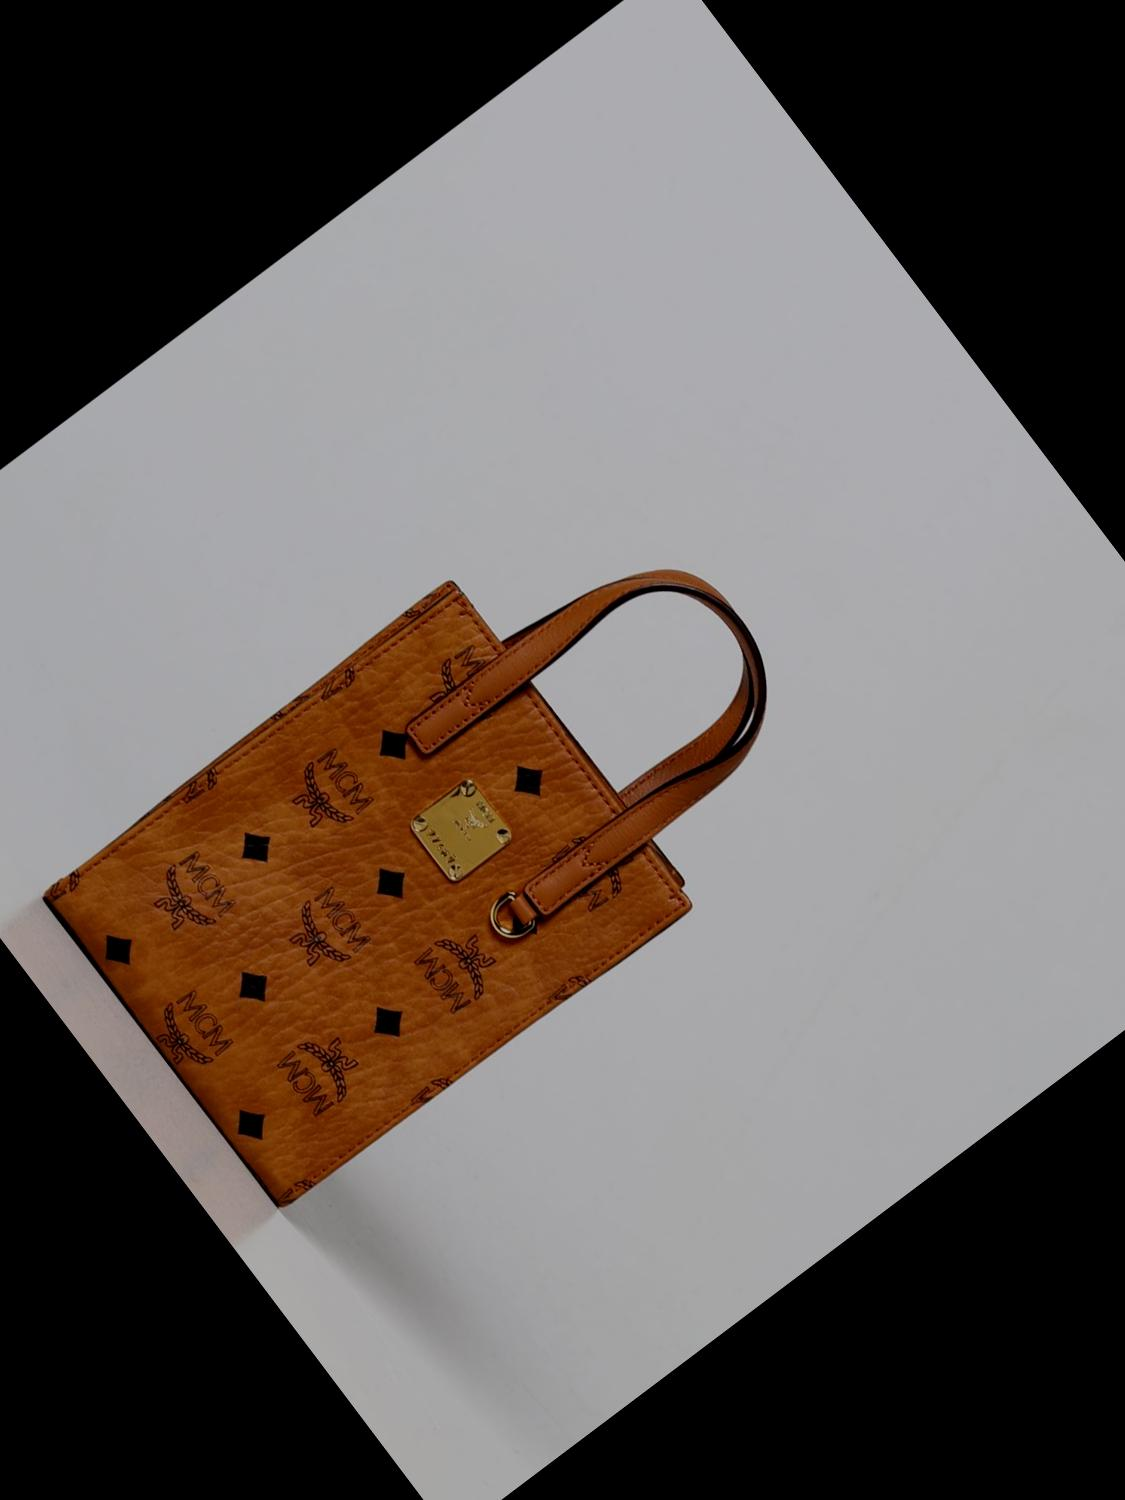MCM: (26, 570, 708, 1233)
